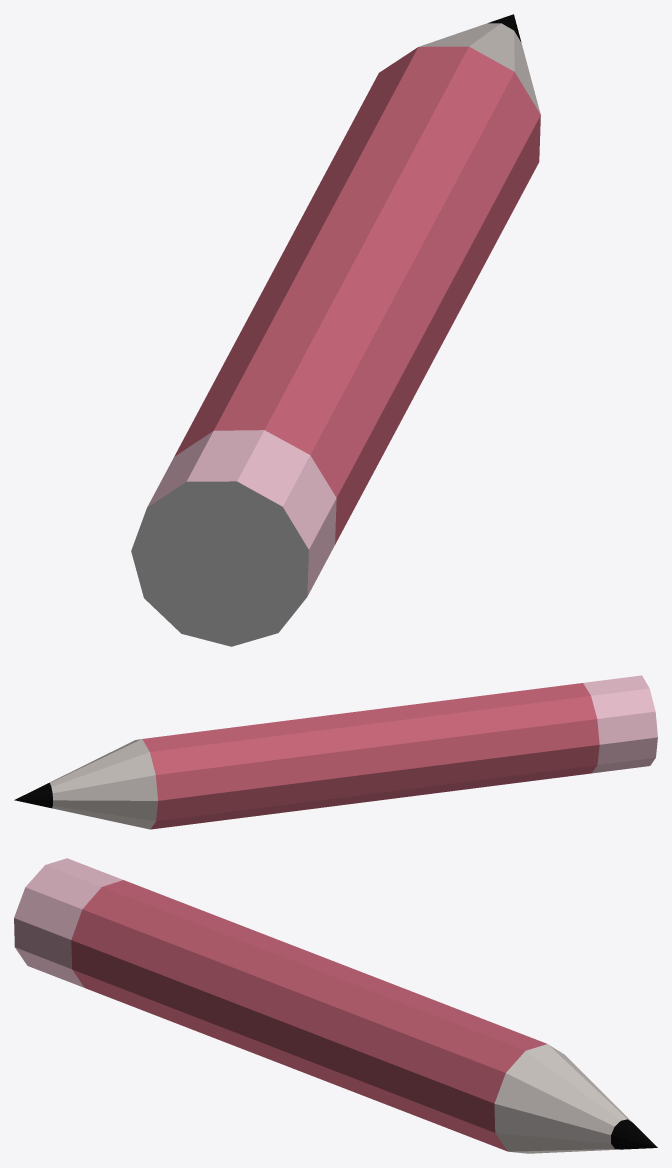
Rendered from SU_redpen.fbx.
3 views of the same model, one above another, from view 1: azimuth 30°, elevation 25°; view 2: azimuth 150°, elevation 25°; view 3: azimuth 270°, elevation 25° (orthographic). The views are drawn at different scales.
Visible parts, largest first — view 1: pasted__pasted__pCylinder7; view 2: pasted__pasted__pCylinder7; view 3: pasted__pasted__pCylinder7.
Part boxes in pixels (<box>): pasted__pasted__pCylinder7: <box>131,14,540,646</box>; pasted__pasted__pCylinder7: <box>14,675,657,829</box>; pasted__pasted__pCylinder7: <box>14,858,657,1153</box>.
Size of the model in its own units: 0.5842 by 0.1135 by 0.6234.
